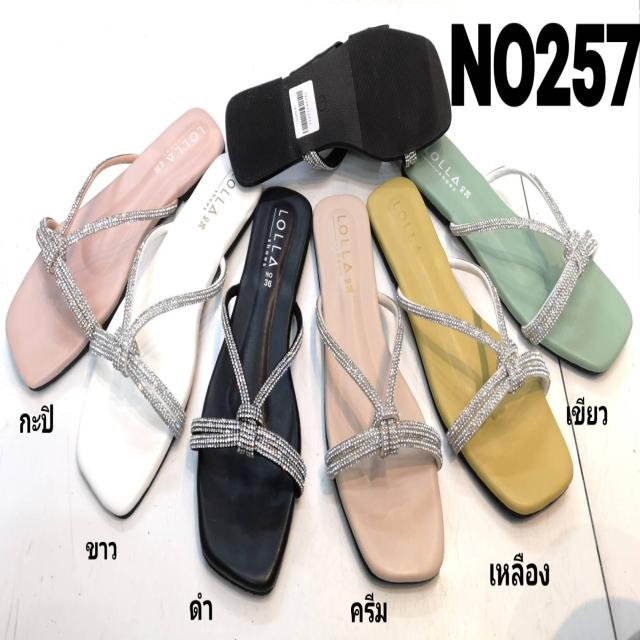black: (194, 183, 313, 590)
cream: (309, 193, 443, 578)
green: (399, 125, 632, 374)
kapi: (5, 111, 222, 388)
white: (75, 153, 261, 511)
yellow: (371, 178, 576, 522)
